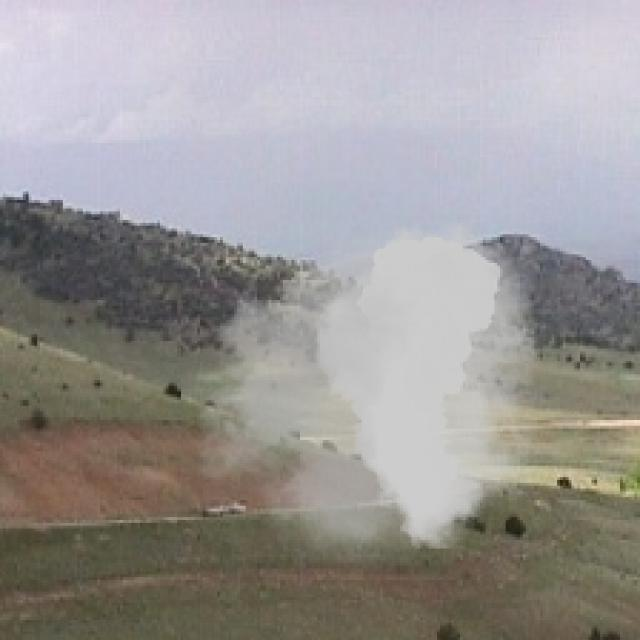Smoke: (177, 212, 566, 572)
